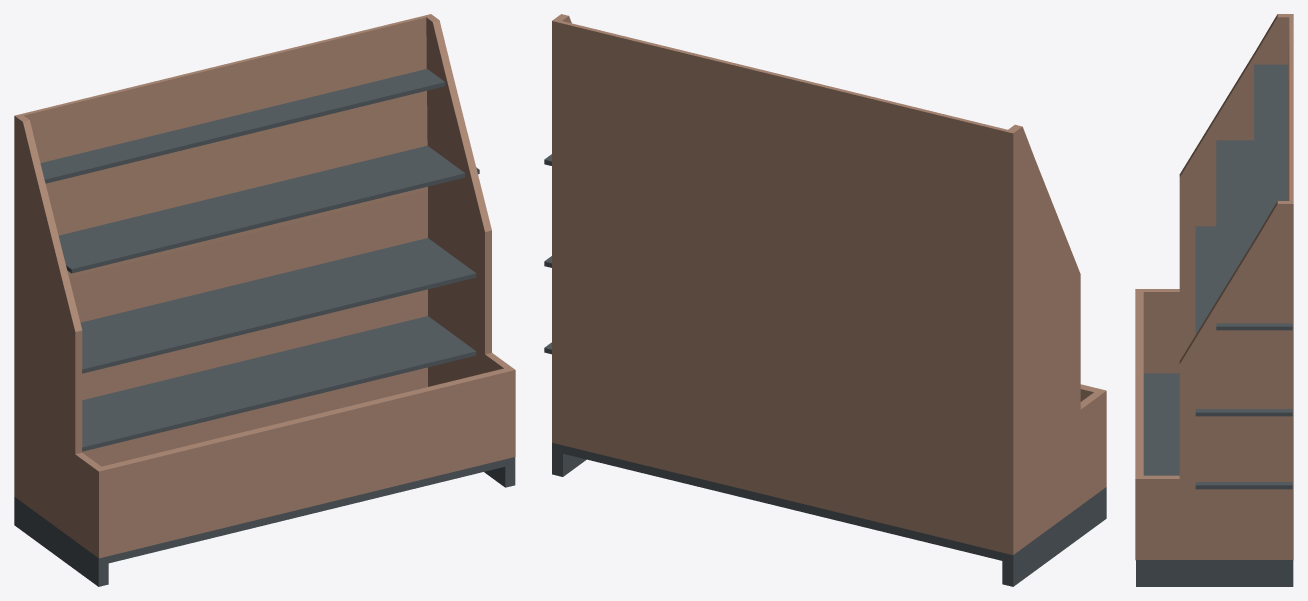
Rendered from SM_shelf_showcase_02.fbx.
3 renders of one model, left to right at view 1: azimuth 30°, elevation 25°; view 2: azimuth 150°, elevation 25°; view 3: azimuth 270°, elevation 25°, orthographic. The views are drawn at different scales.
Visible parts, largest first — view 1: shelf_showcase_02; view 2: shelf_showcase_02; view 3: shelf_showcase_02.
Boxes of the visible parts, x1=… form: shelf_showcase_02: x1=14, y1=14, x2=515, y2=586; shelf_showcase_02: x1=544, y1=14, x2=1106, y2=586; shelf_showcase_02: x1=1135, y1=14, x2=1293, y2=586.
Bounding box in the file's own units: 166 × 153 × 57.34.
